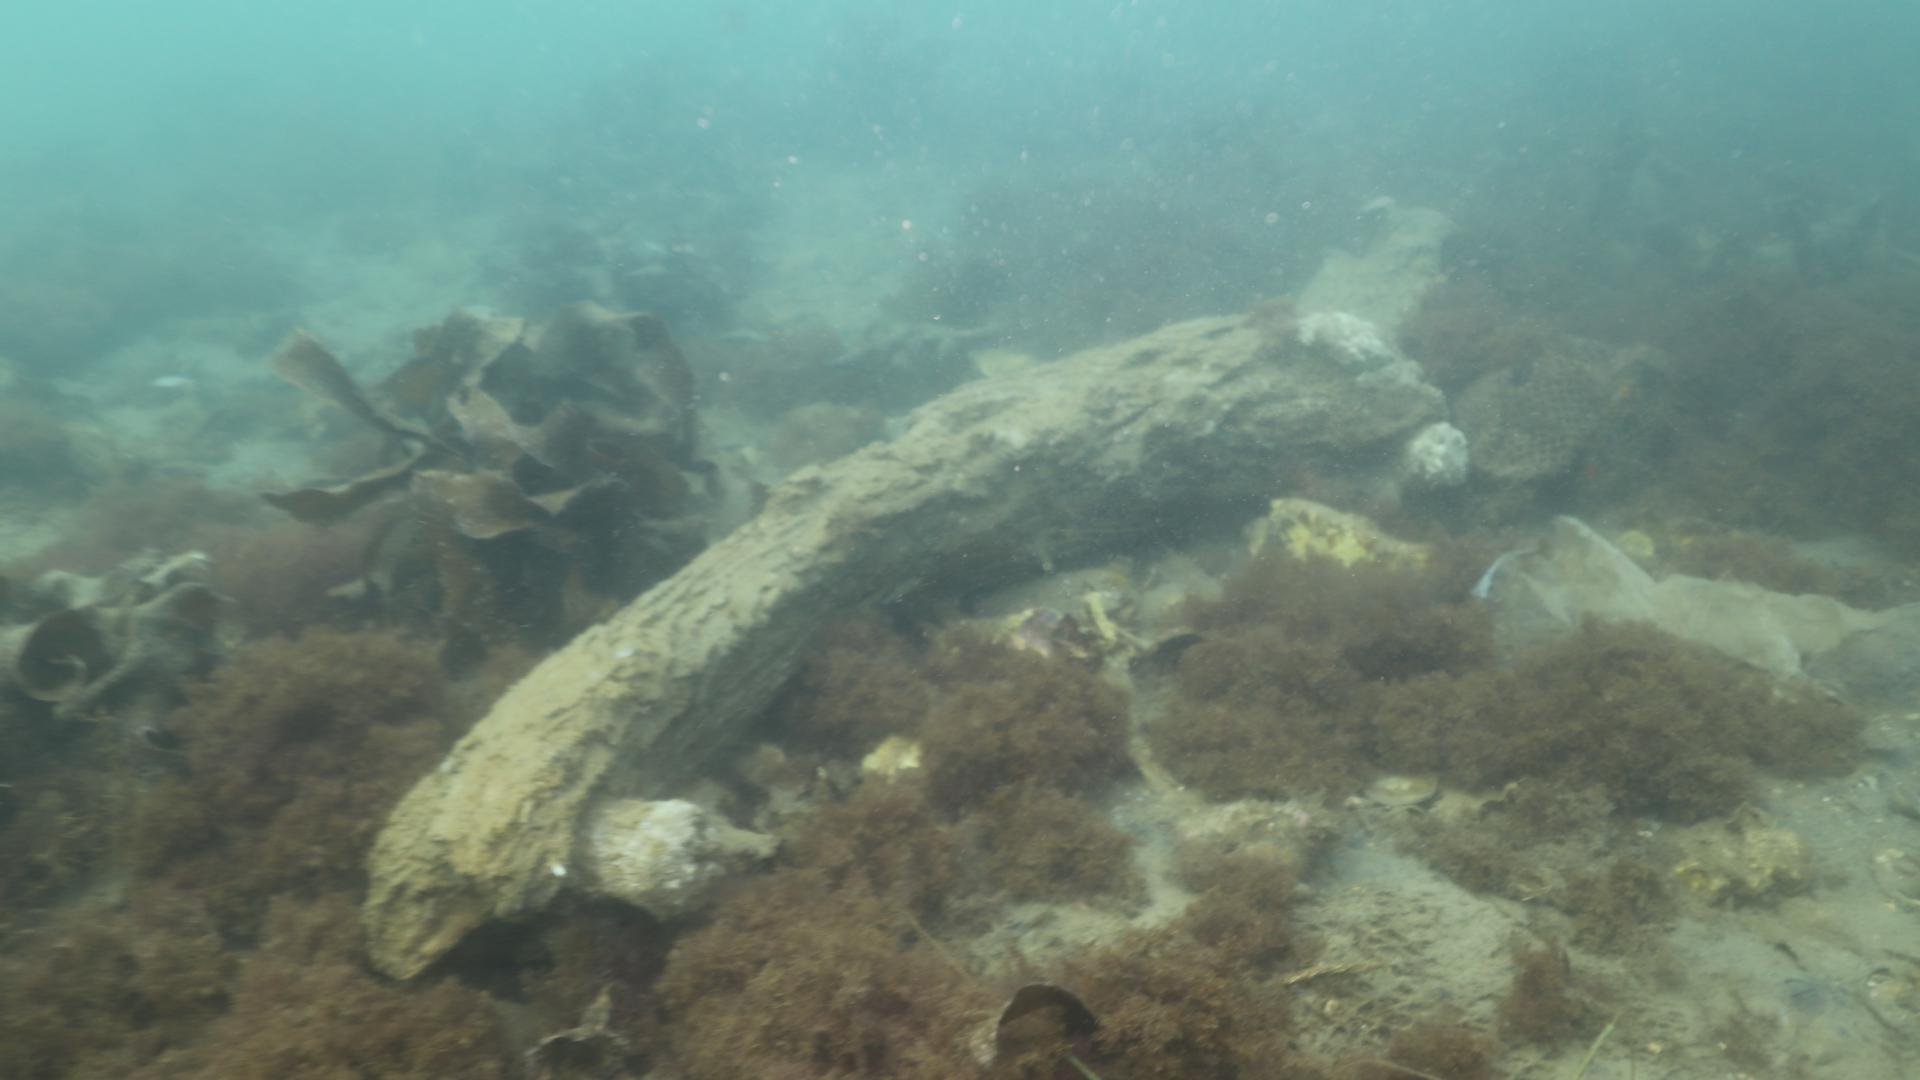fish net: (1466, 338, 1669, 487)
wood: (365, 302, 1447, 981)
